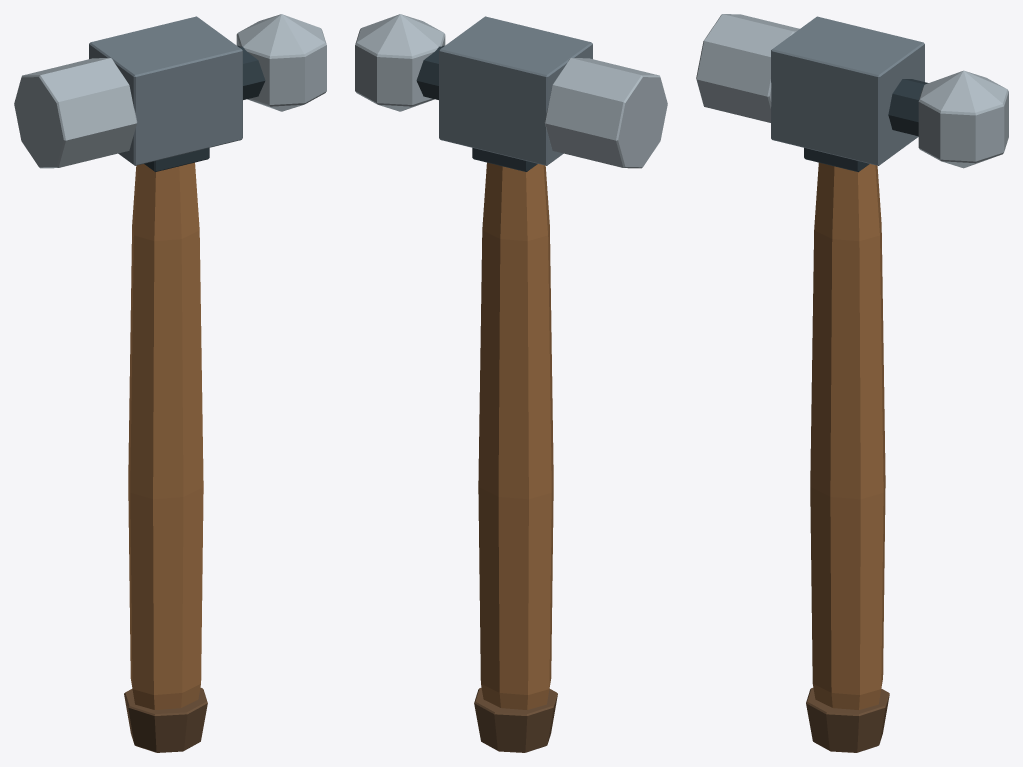
Rendered from b06_ball_peen_hammer.glb.
3 views of the same model, side by side, from view 1: azimuth 30°, elevation 25°; view 2: azimuth 150°, elevation 25°; view 3: azimuth 330°, elevation 25° (orthographic).
Visible parts, largest first — view 1: b06_ball_peen_hammer; view 2: b06_ball_peen_hammer; view 3: b06_ball_peen_hammer.
Part boxes in pixels (bbox=[...]): b06_ball_peen_hammer: bbox=[14, 14, 326, 752]; b06_ball_peen_hammer: bbox=[355, 14, 667, 752]; b06_ball_peen_hammer: bbox=[696, 14, 1008, 752].
Size of the model in its own units: 0.1272 by 0.299 by 0.04.
